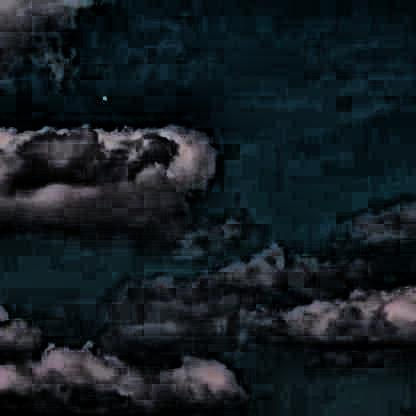golfball: (99, 93, 103, 100)
